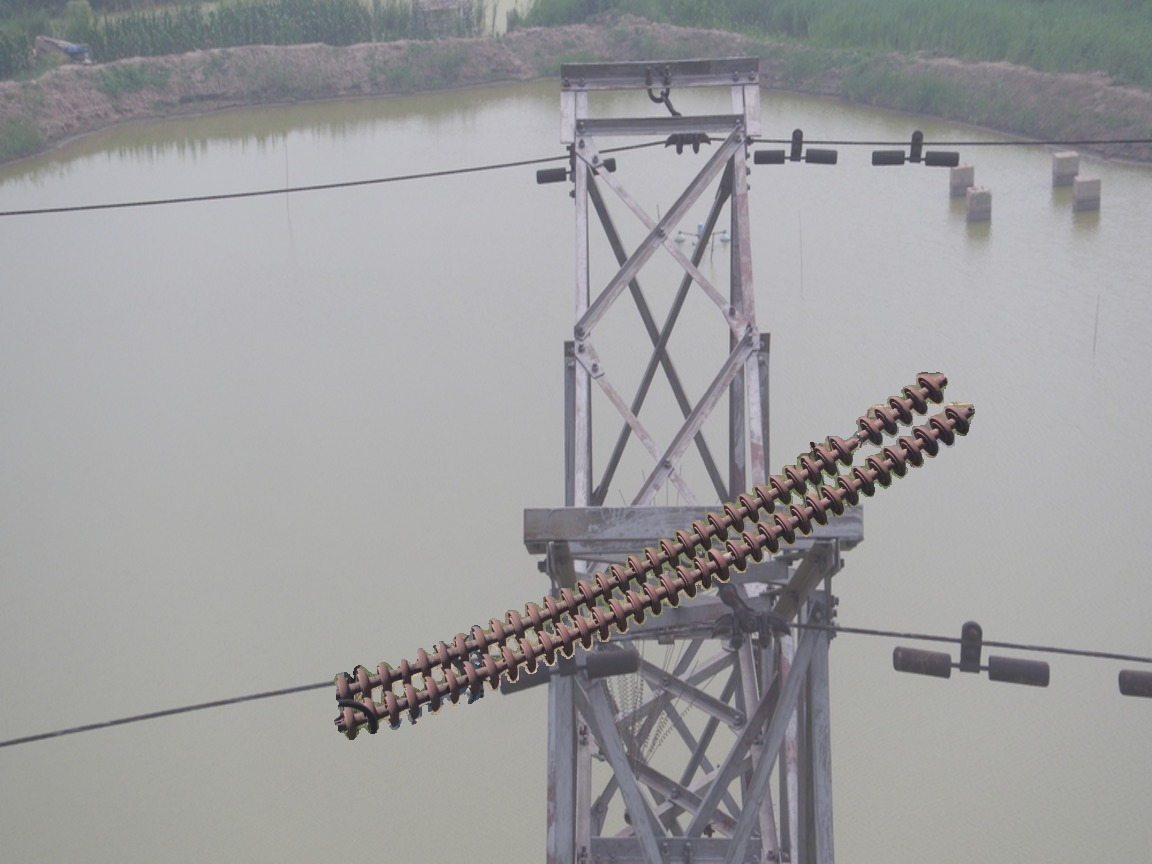defect: (826, 410, 885, 467)
